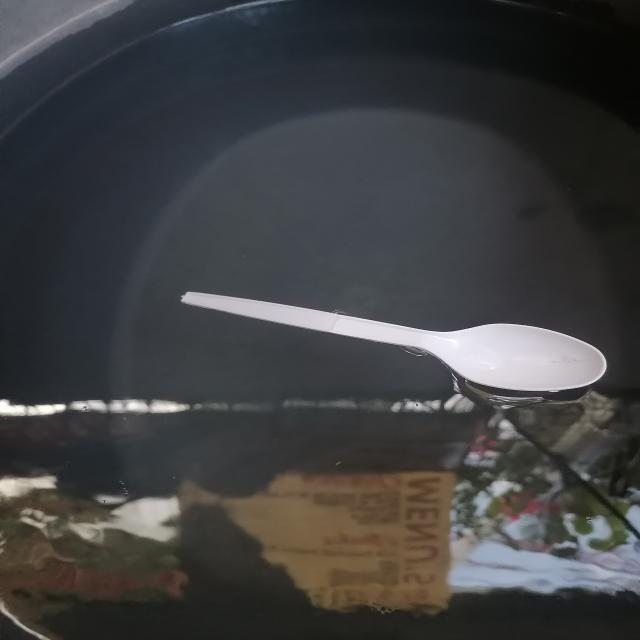Plastic Spoon: (181, 292, 607, 407)
